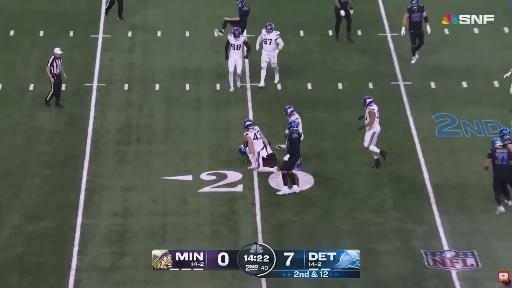Helmet: (362, 96, 376, 107), (491, 138, 506, 148), (284, 105, 295, 117), (266, 23, 275, 35), (499, 129, 511, 138), (287, 121, 299, 130), (245, 119, 255, 129), (233, 28, 242, 39), (240, 144, 247, 154), (412, 0, 419, 9), (237, 0, 246, 6)
Jersey: (488, 148, 511, 177), (244, 127, 264, 154), (406, 5, 425, 31), (261, 29, 280, 53), (287, 130, 301, 161), (228, 35, 246, 58), (365, 104, 379, 130), (288, 113, 302, 133), (239, 4, 250, 26), (336, 0, 348, 10), (502, 138, 511, 146)
Player: (359, 96, 387, 168), (485, 138, 511, 213), (244, 119, 278, 173), (402, 0, 430, 63), (277, 121, 301, 194), (256, 23, 283, 87), (225, 27, 250, 91), (216, 0, 250, 35), (335, 0, 353, 42), (284, 106, 303, 140), (499, 128, 511, 151), (239, 141, 249, 162), (239, 141, 249, 161), (504, 70, 511, 78)
